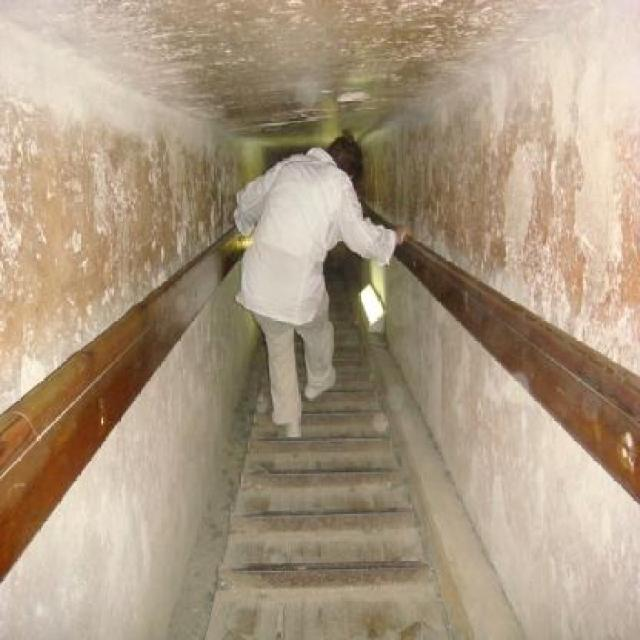stair: (203, 258, 460, 638)
